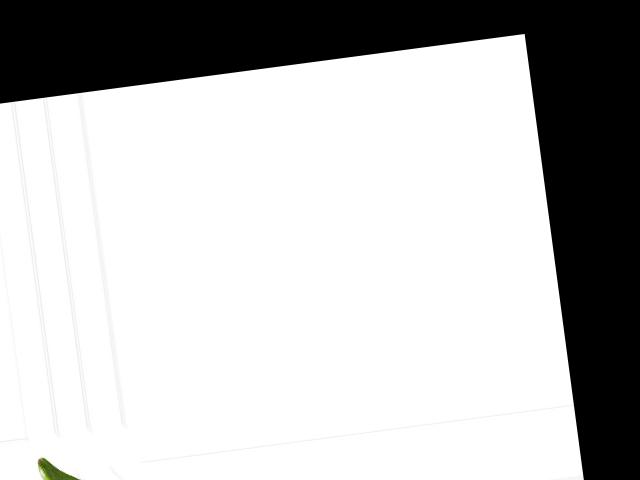cucumber: (37, 445, 140, 480)
